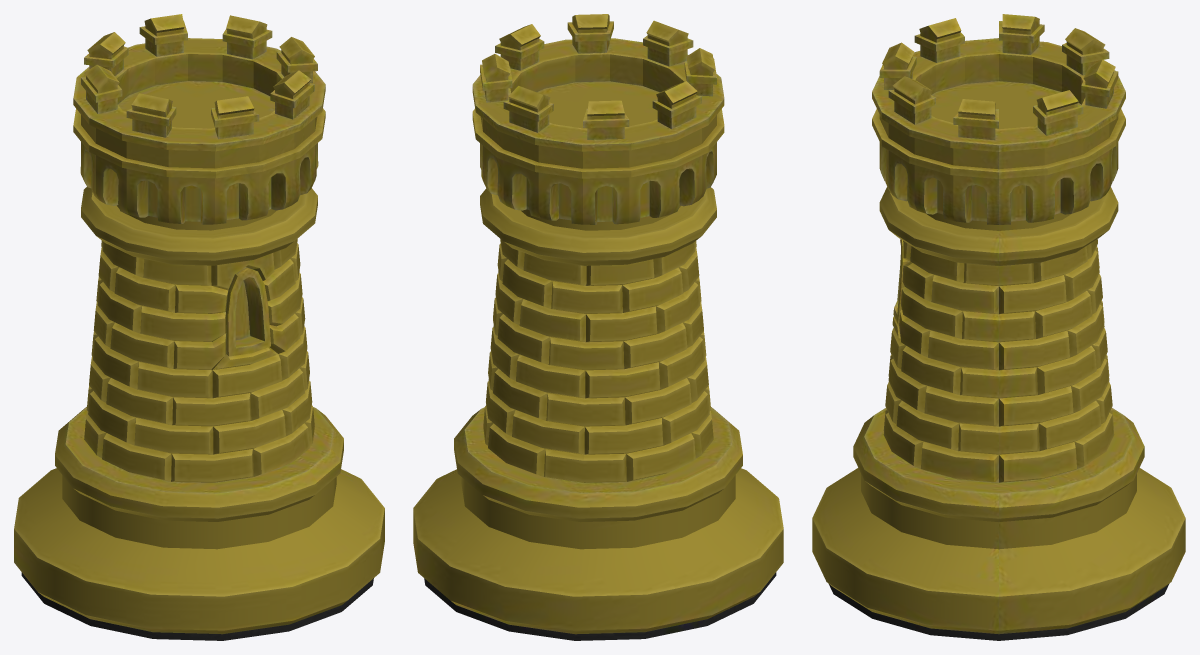
3 renders of one model, left to right at view 1: azimuth 30°, elevation 25°; view 2: azimuth 150°, elevation 25°; view 3: azimuth 270°, elevation 25°, orthographic.
Visible parts, largest first — view 1: Object_36.001; view 2: Object_36.001; view 3: Object_36.001.
Part boxes in pixels (left/top/right/bottom): Object_36.001: left=14, top=14, right=384, bottom=640; Object_36.001: left=413, top=14, right=783, bottom=640; Object_36.001: left=812, top=14, right=1185, bottom=640.
Bounding box in the file's own units: 1.05 × 1.58 × 1.05.
Materials: 1 (1 with a texture image).
